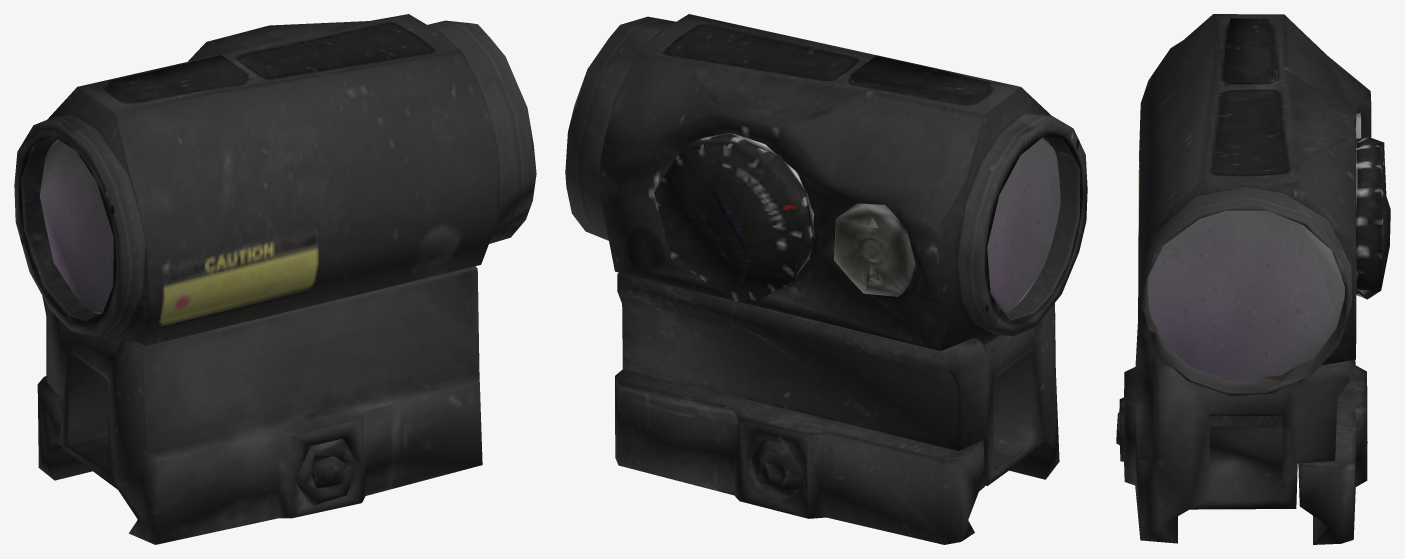
Rendered from ReflexSight.fbx.
3 views of the same model, side by side, from view 1: azimuth 30°, elevation 25°; view 2: azimuth 150°, elevation 25°; view 3: azimuth 270°, elevation 25° (orthographic). The views are drawn at different scales.
Parts seen in each view (by area): view 1: ReflexSight; view 2: ReflexSight; view 3: ReflexSight.
Boxes of the visible parts, left/top/right/bottom form: ReflexSight: left=14, top=14, right=536, bottom=544; ReflexSight: left=565, top=14, right=1087, bottom=544; ReflexSight: left=1116, top=14, right=1390, bottom=544.
Size of the model in its own units: 0.0379 by 0.0359 by 0.0233.
